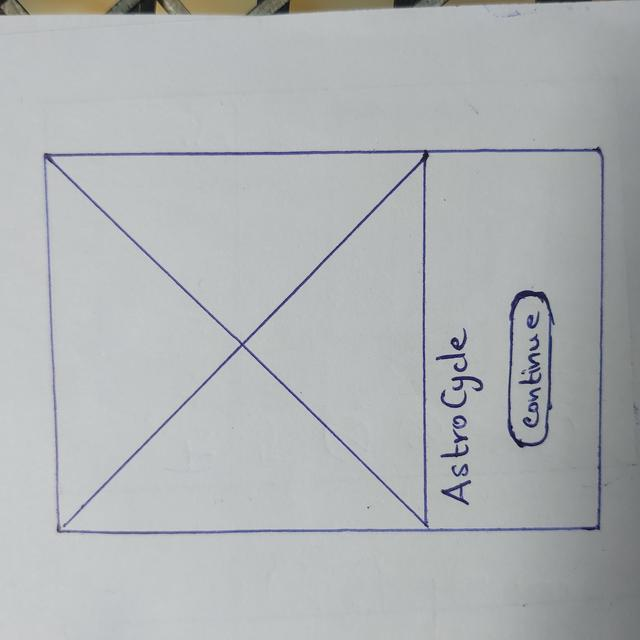Button: (504, 289, 553, 451)
Image: (46, 153, 427, 528)
MainLayout: (44, 150, 604, 533)
TextView: (444, 334, 469, 505)
